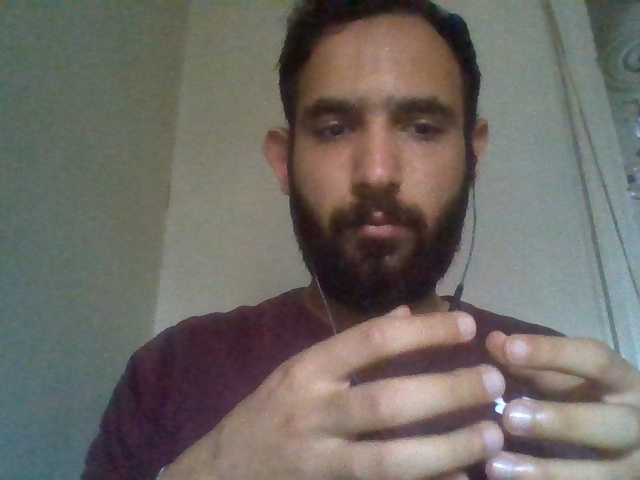Story: (263, 296, 640, 480)
